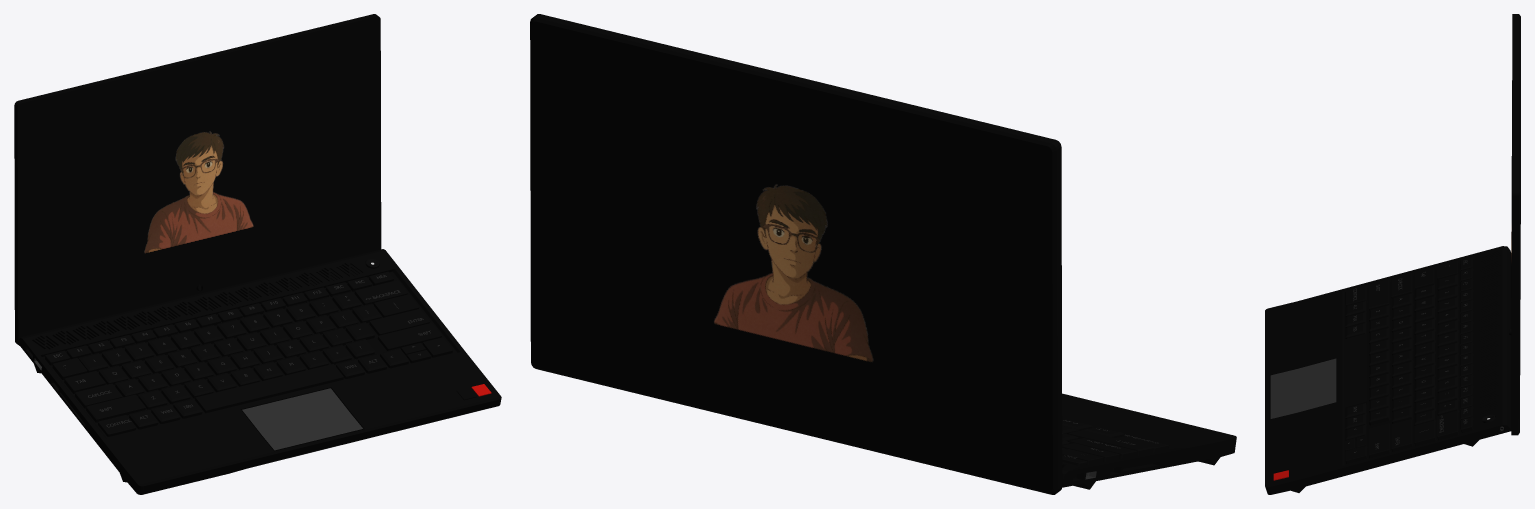
Rendered from Laptop.glb.
The picture shows the model from 3 angles, left to right: view 1: azimuth 30°, elevation 25°; view 2: azimuth 150°, elevation 25°; view 3: azimuth 270°, elevation 25°; orthographic projection. The views are drawn at different scales.
Parts seen in each view (by area): view 1: node_id118, node_id16, node_id115, node_id91, node_id79, node_id19, node_id35, node_id75, node_id47, node_id23, node_id51, node_id55 (+8 smaller); view 2: node_id115, node_id16; view 3: node_id16, node_id115, node_id91, node_id79, node_id19, node_id35, node_id75, node_id47, node_id23, node_id51, node_id55, node_id31 (+10 smaller).
Boxes of the visible parts, x1,y1,x2,y2 form: node_id118: (22, 21, 376, 324); node_id16: (18, 249, 501, 494); node_id115: (14, 14, 381, 345); node_id91: (79, 291, 361, 372); node_id79: (98, 303, 381, 384); node_id19: (34, 358, 362, 450); node_id35: (115, 322, 375, 397); node_id75: (138, 339, 375, 409); node_id47: (45, 271, 393, 365); node_id23: (195, 364, 343, 413); node_id51: (129, 398, 202, 429); node_id55: (336, 348, 409, 378); node_id115: (530, 14, 1062, 494); node_id16: (1062, 393, 1236, 489); node_id16: (1265, 246, 1511, 494); node_id115: (1511, 14, 1520, 435); node_id91: (1437, 274, 1459, 415); node_id79: (1414, 284, 1435, 425); node_id19: (1270, 358, 1336, 418); node_id35: (1391, 293, 1413, 423); node_id75: (1368, 305, 1390, 425); node_id47: (1460, 257, 1473, 432); node_id23: (1345, 333, 1367, 407); node_id51: (1345, 301, 1367, 338); node_id55: (1345, 403, 1367, 440); node_id31: (1368, 423, 1390, 458).
Size of the model in its own units: 0.7055 by 0.5628 by 0.4264.
Materials: 110 (110 with a texture image).
